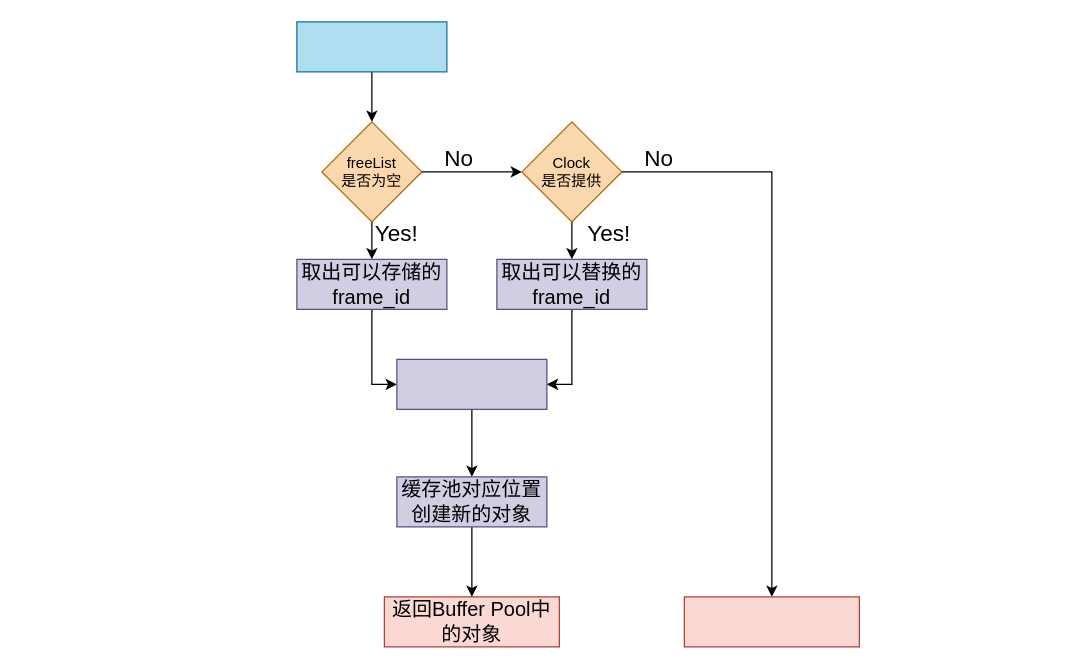
This 1080x669 diagram has some shape labels left out. Each missing label, with the centre of its shape:
DiskManager 分配 pageId: point (471, 383)
开始: point (371, 46)
返回 null: point (771, 621)
